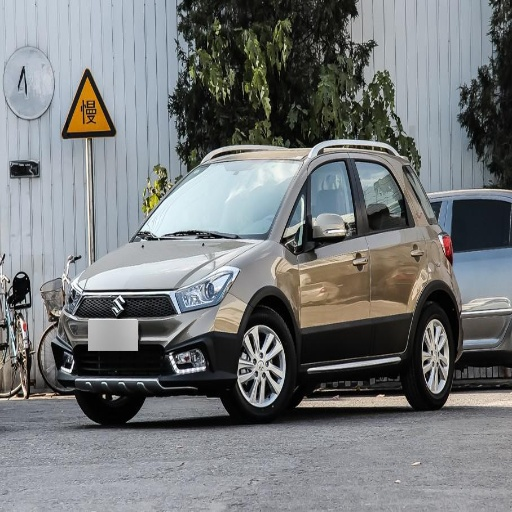back_left_door: (350, 153, 425, 353)
front_bumper: (40, 286, 246, 390)
front_glass: (134, 160, 301, 240)
front_left_door: (284, 152, 371, 362)
